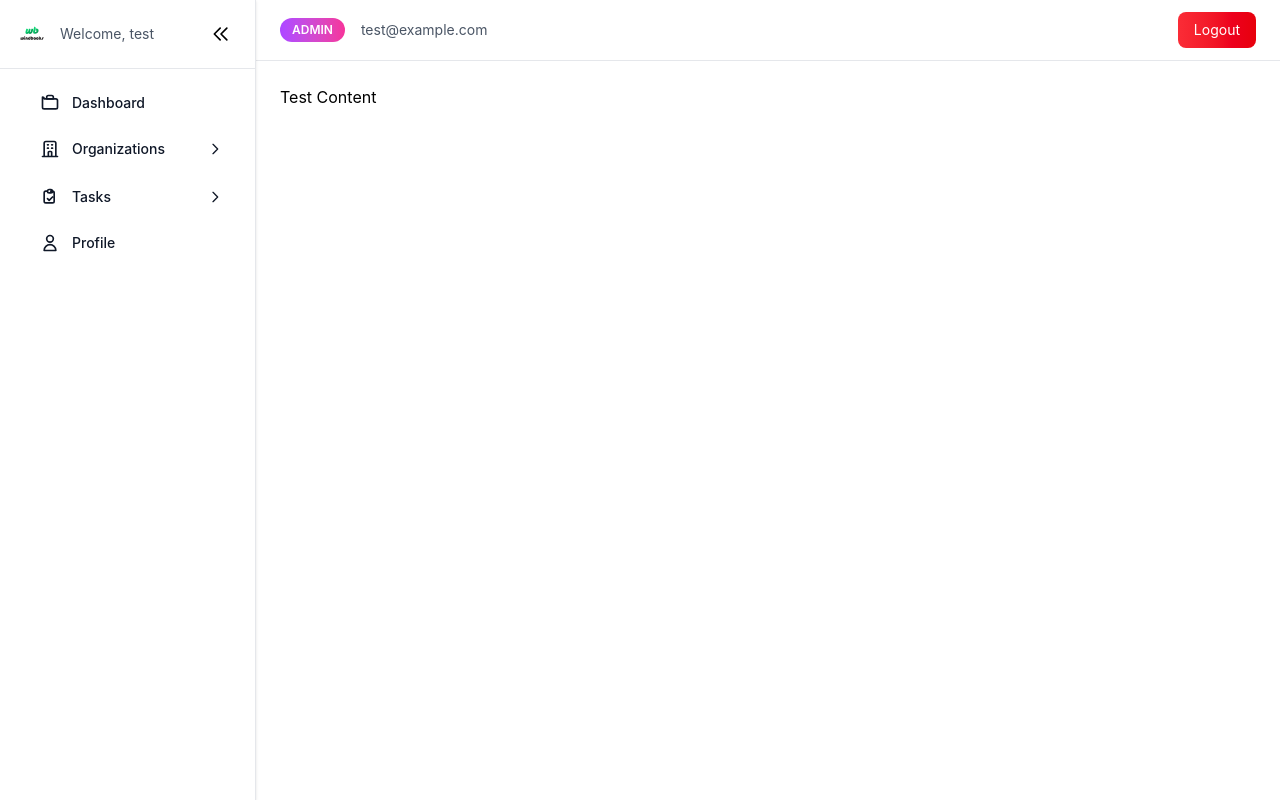
Scenario: MainLayout Component › expands sidebar when maximize button is clicked
The width and height of the screenshot is (1280, 800).
// Collapse first
Click the button named "Collapse sidebar" at (221, 34), box [203, 16, 239, 52]
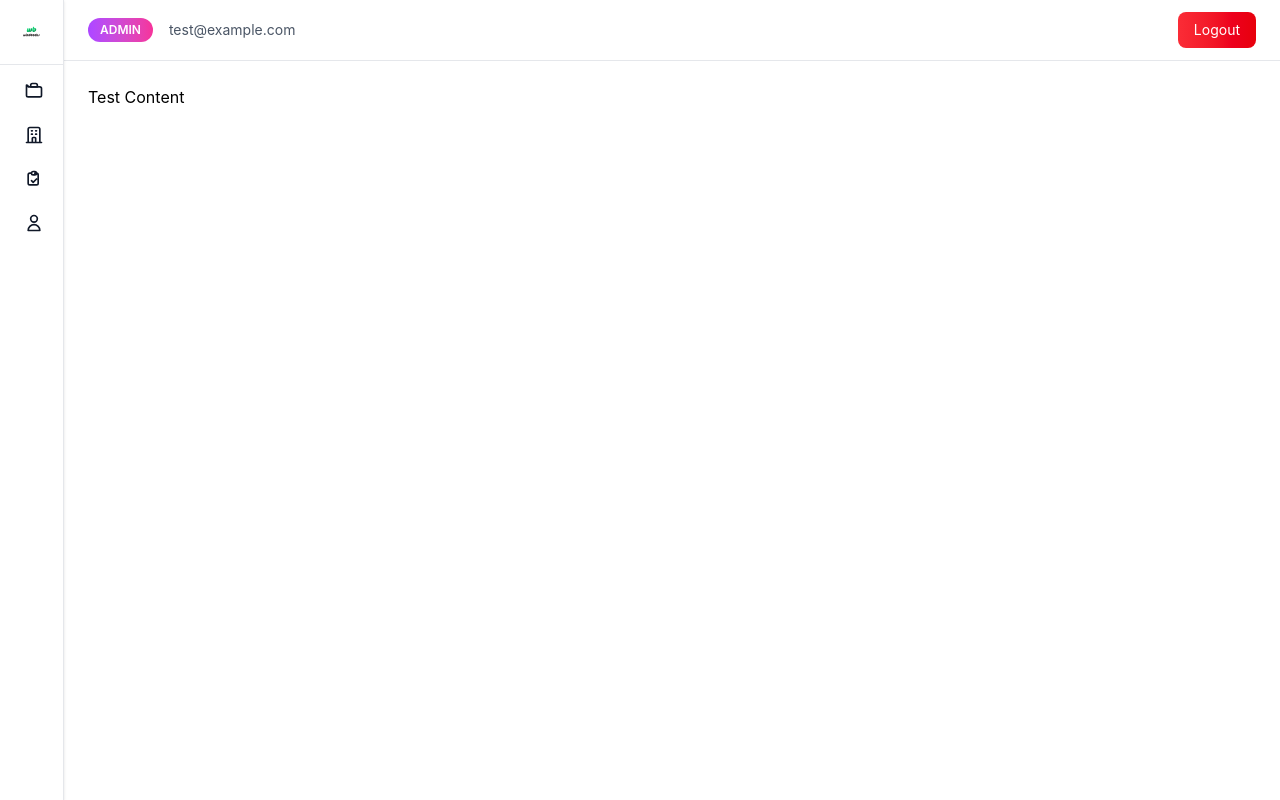
// Click maximize button
Click the button named "expand" at (32, 32), box [16, 16, 47, 48]
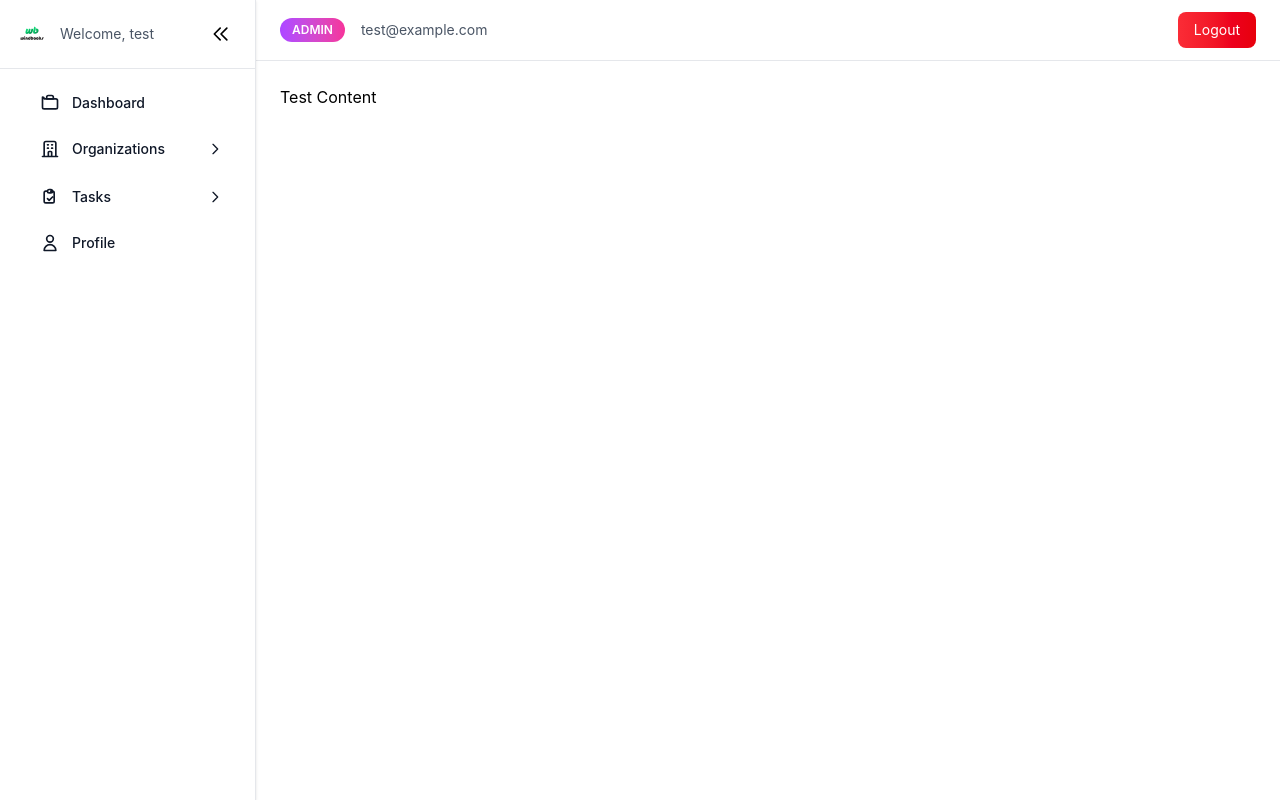
Expected: the picture with alt text "Windbooks Logo" is shown, [16, 18, 48, 50]
Expected: the text "Welcome, test" is shown, [60, 24, 154, 44]
